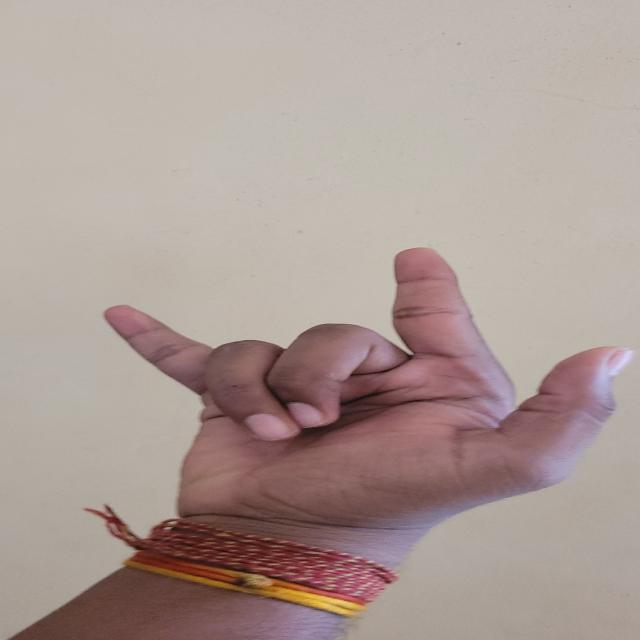i like you: (76, 250, 631, 553)
